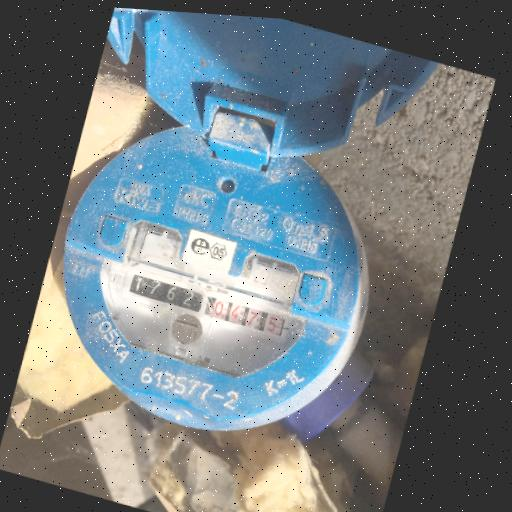0: (210, 297, 230, 320)
1: (128, 273, 149, 296)
2: (178, 287, 204, 313)
4: (224, 301, 247, 325)
5: (257, 311, 284, 337)
6: (161, 282, 184, 307)
7: (143, 277, 167, 301), (240, 306, 263, 331)
border_water_meter_number: (117, 264, 295, 345)
